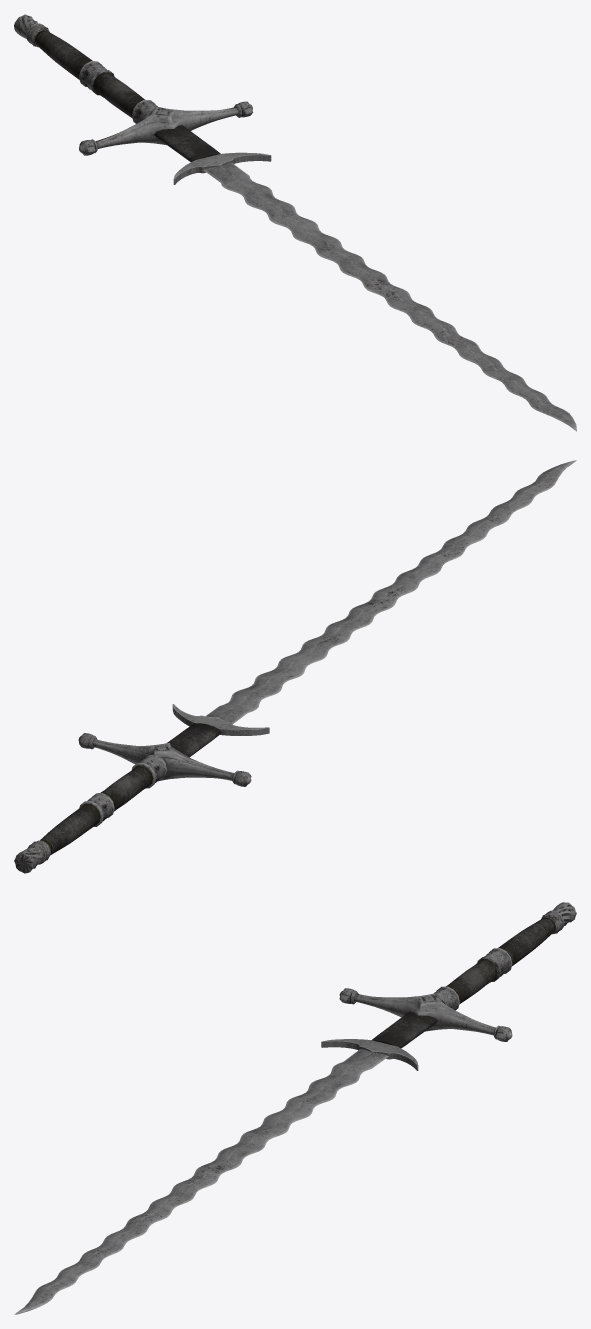
The model's file is flamberge.fbx.
3 views of the same model, one above another, from view 1: azimuth 30°, elevation 25°; view 2: azimuth 150°, elevation 25°; view 3: azimuth 330°, elevation 25° (orthographic).
Visible parts, largest first — view 1: WP_A_0610; view 2: WP_A_0610; view 3: WP_A_0610.
Part boxes in pixels (box(x1,y1,x2,y2)): WP_A_0610: box(14, 14, 576, 431); WP_A_0610: box(14, 460, 576, 873); WP_A_0610: box(14, 902, 576, 1314).
Size of the model in its own units: 29.9 by 5.01 by 167.
1 material, 1 textured.
